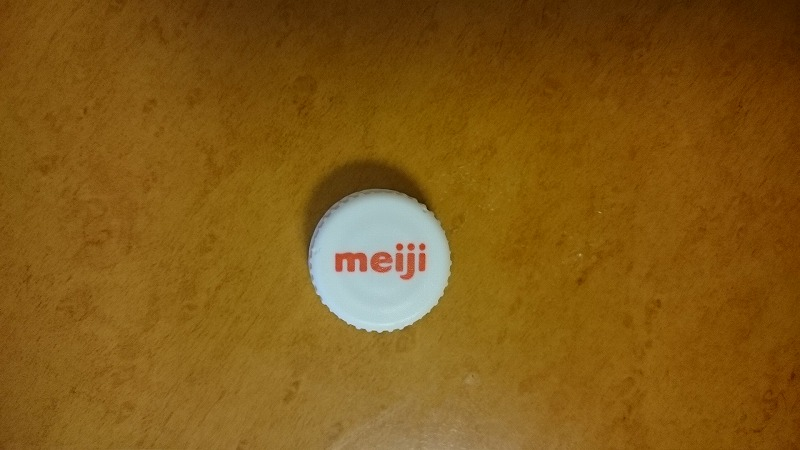B: (302, 175, 461, 349)
